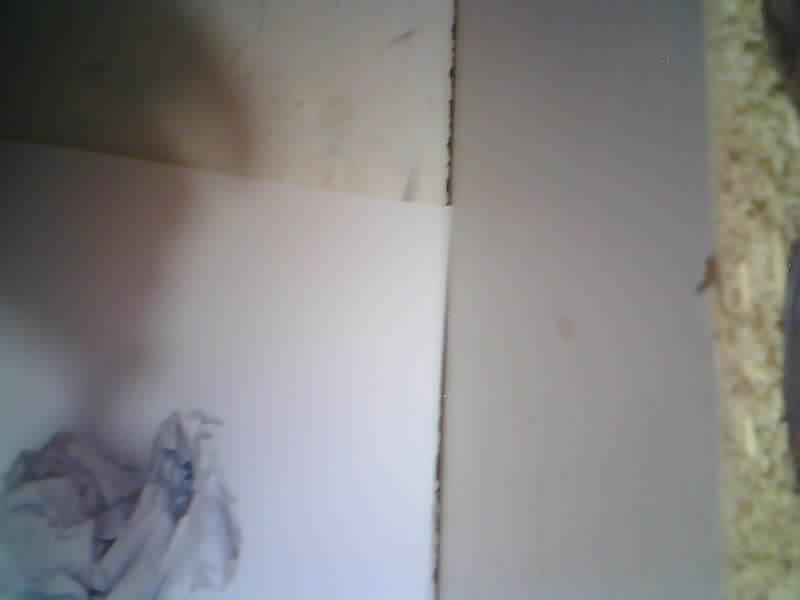biodegradable: (0, 412, 240, 599)
